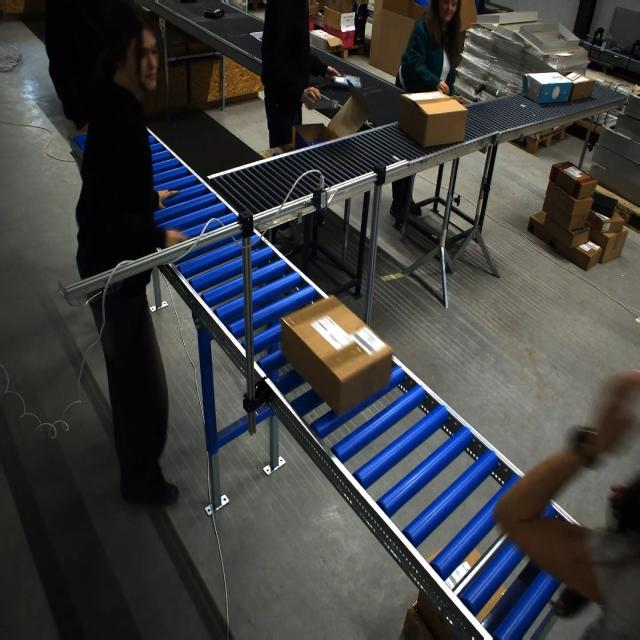box: (283, 300, 378, 414), (399, 90, 467, 148), (310, 84, 362, 144), (521, 71, 571, 104)
product: (331, 75, 362, 90), (204, 8, 225, 19)
